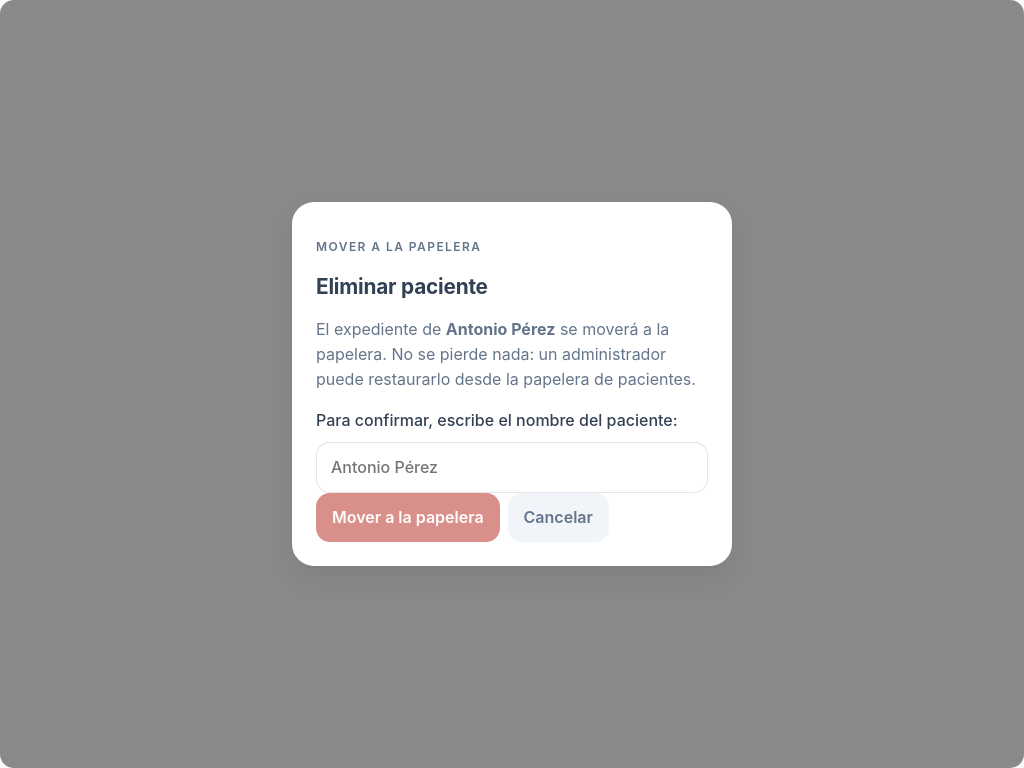
it: ConfirmDeleteModal › mantiene deshabilitado el botón hasta escribir el nombre exacto
Expected: the button "Mover a la papelera" is disabled, 316,493 -> 500,542
Type "Antonio" into the field with placeholder "Antonio Pérez".
click(512, 468); type("Antonio")  # box 316,442 -> 708,493
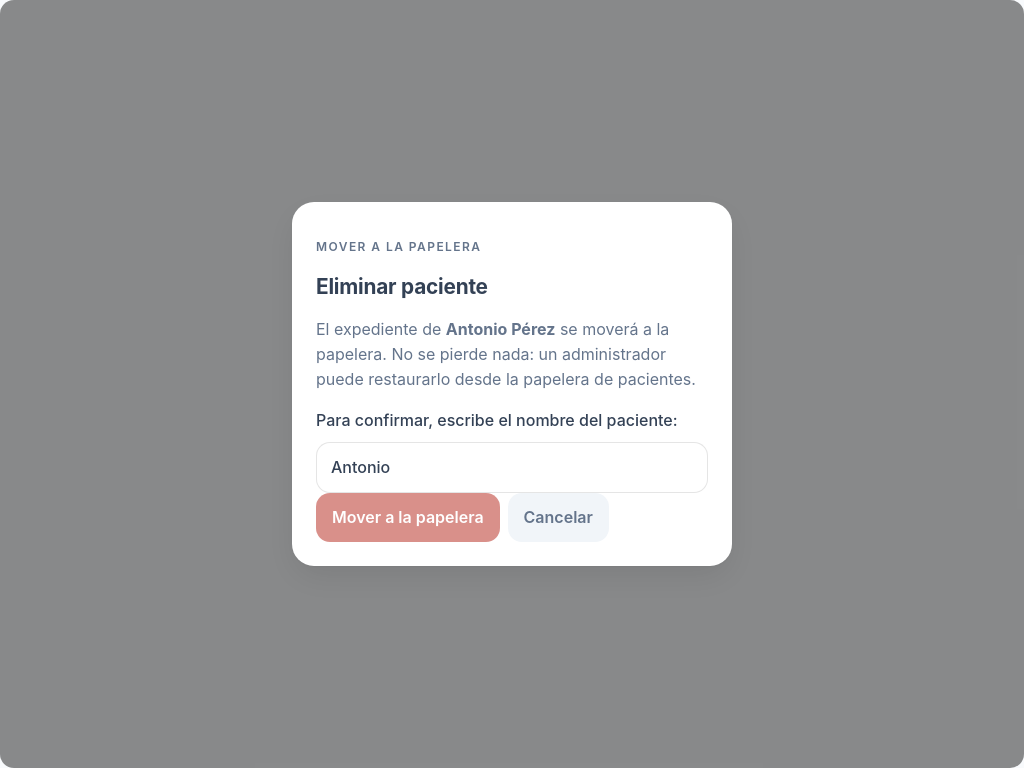
Expected: the button "Mover a la papelera" is disabled, 316,493 -> 500,542
Replace the text in the field with placeholder "Antonio Pérez" with "Antonio Pérez" at coordinates (512, 468), box 316,442 -> 708,493
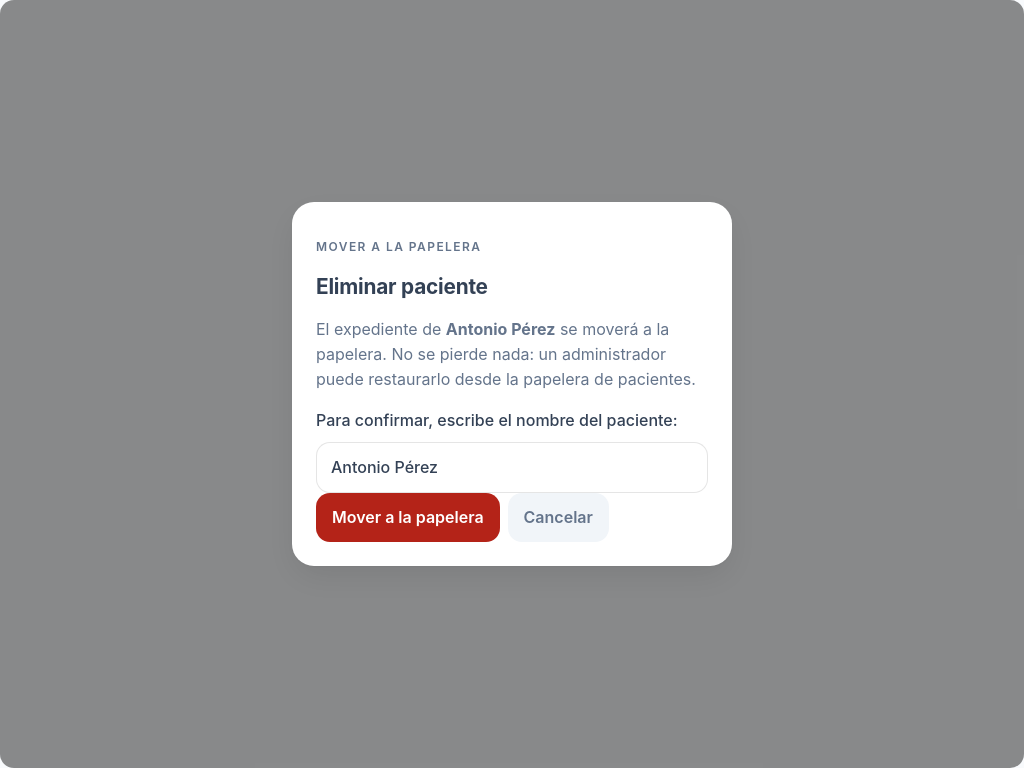
Result: the button "Mover a la papelera" is enabled at 316,493 -> 500,542
